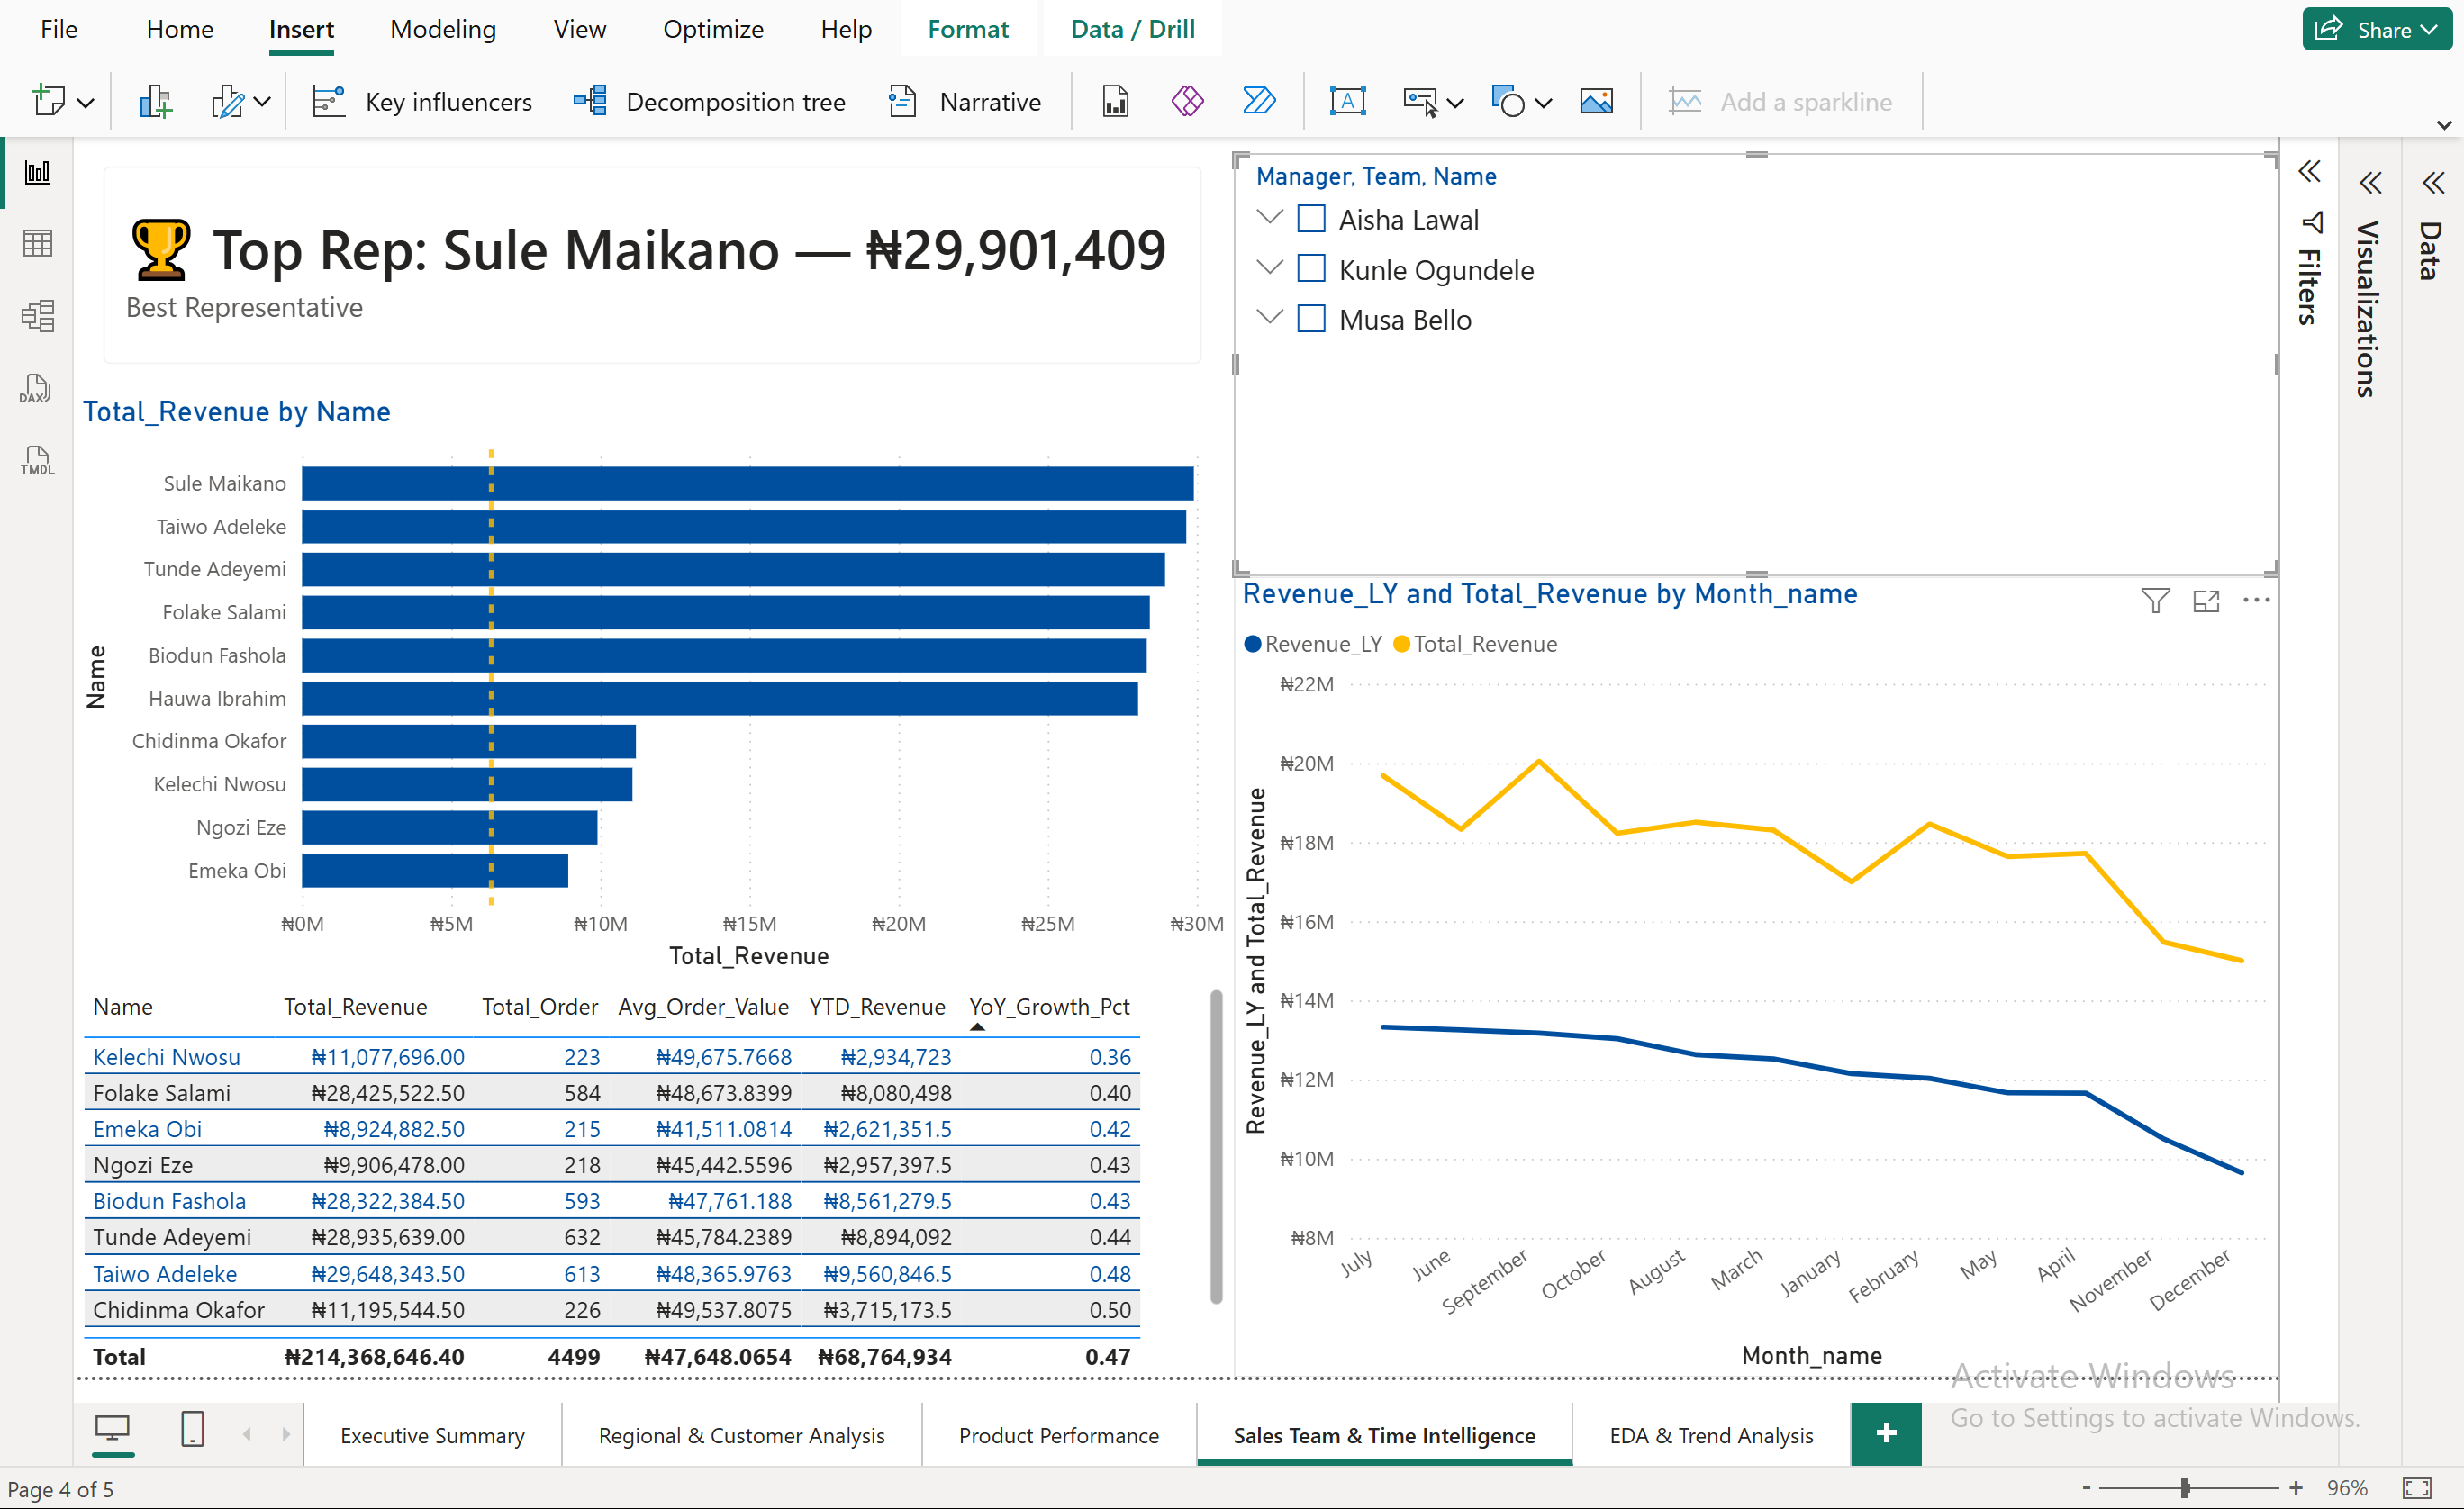

Layout of this report page (visuals, bound fields, positions):
{"tool":"powerbi","page":{"name":"Sales Team & Time Intelligence","canvas":[1280,720],"ordinal":3},"visuals":[{"type":"barChart","fields":{"Y":["_Measures.Total_Revenue"],"Category":["SalesReps.Name"]},"box":[0,149.7,673,339.2],"z":0},{"type":"tableEx","fields":{"Values":["SalesReps.Name","_Measures.Total_Revenue","_Measures.Total_Order","_Measures.Avg_Order_Value","_Measures.YTD_Revenue","_Measures.YoY_Growth_Pct"]},"box":[0,488.9,673,233.5],"z":1000},{"type":"cardVisual","fields":{"Data":["_Measures.Best_Rep_Title"]},"box":[0,0,673,149.7],"z":2000},{"type":"lineChart","fields":{"Y":["_Measures.Revenue_LY","_Measures.Total_Revenue"],"Category":["Date.Month_name"]},"box":[673,255.5,608.4,465.6],"z":3000},{"type":"slicer","fields":{"Values":["SalesReps.Manager","SalesReps.Team","SalesReps.Name"]},"box":[673,9.6,608.4,245.8],"z":4000}]}

Visuals, with their boxes on the page's 1280x720 design canvas (x1, y1, x2, y2). These are canvas units, not pixel positions in the 2464x1509 screenshot, which may show the page scaled, cropped or inside an application window:
barChart - _Measures.Total_Revenue x SalesReps.Name: crop(0, 150, 673, 489)
tableEx - SalesReps.Name x _Measures.Total_Revenue: crop(0, 489, 673, 722)
cardVisual - _Measures.Best_Rep_Title: crop(0, 0, 673, 150)
lineChart - _Measures.Revenue_LY x _Measures.Total_Revenue: crop(673, 256, 1281, 721)
slicer - SalesReps.Manager x SalesReps.Team: crop(673, 10, 1281, 255)
